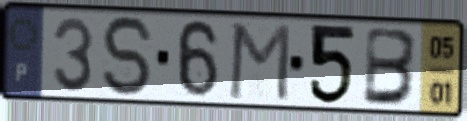3: (50, 14, 96, 95)
5: (306, 23, 361, 107)
6: (175, 17, 223, 102)
B: (360, 24, 421, 108)
M: (225, 20, 293, 104)
S: (99, 13, 158, 100)
